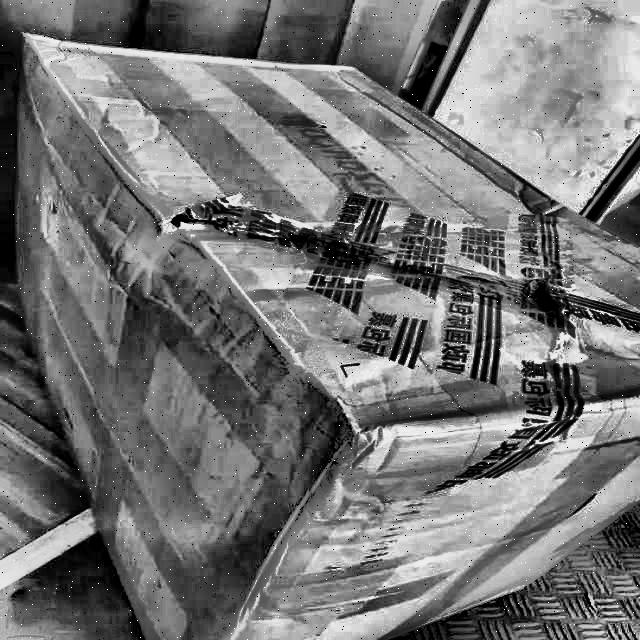box: (0, 32, 632, 640)
hole: (161, 205, 202, 255)
